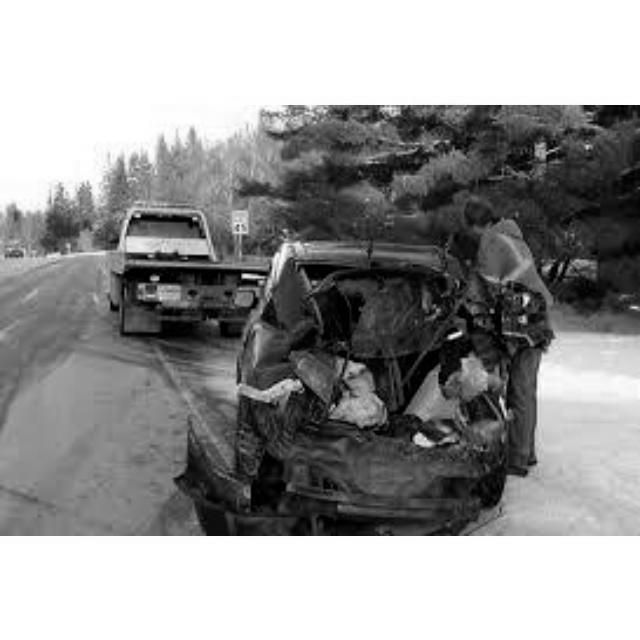rear-bumper-dent: (265, 419, 490, 510)
